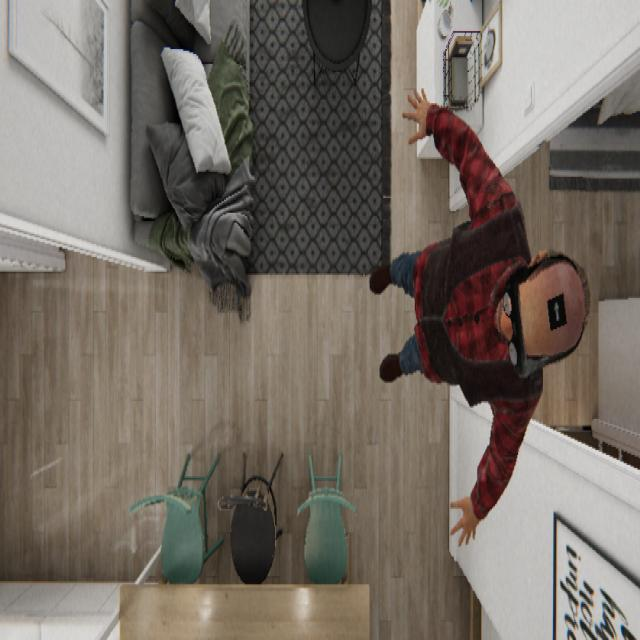Human: (368, 85, 590, 547)
UnityLogo: (546, 288, 568, 331)
